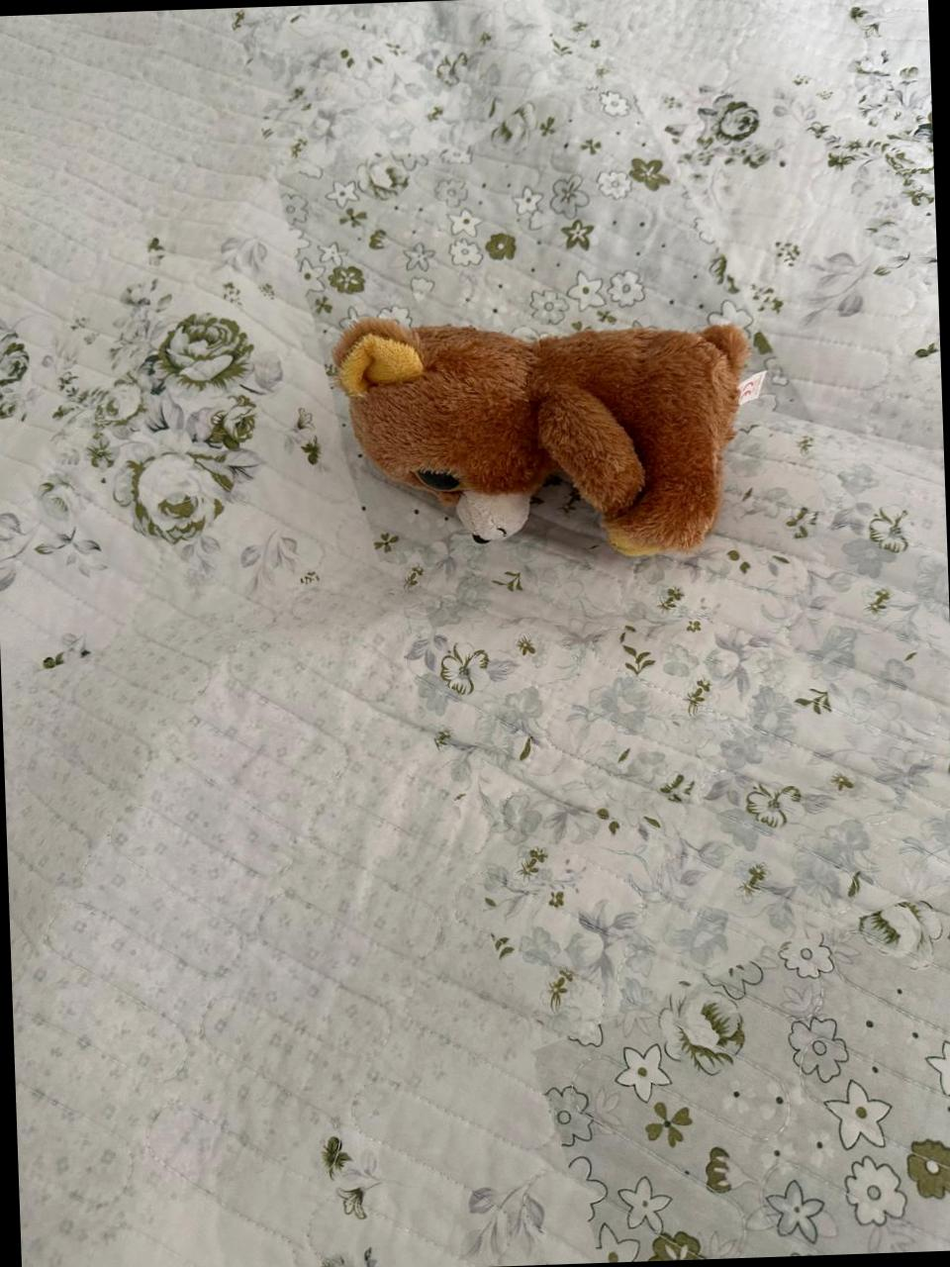peluche_sebastian: (331, 309, 765, 584)
